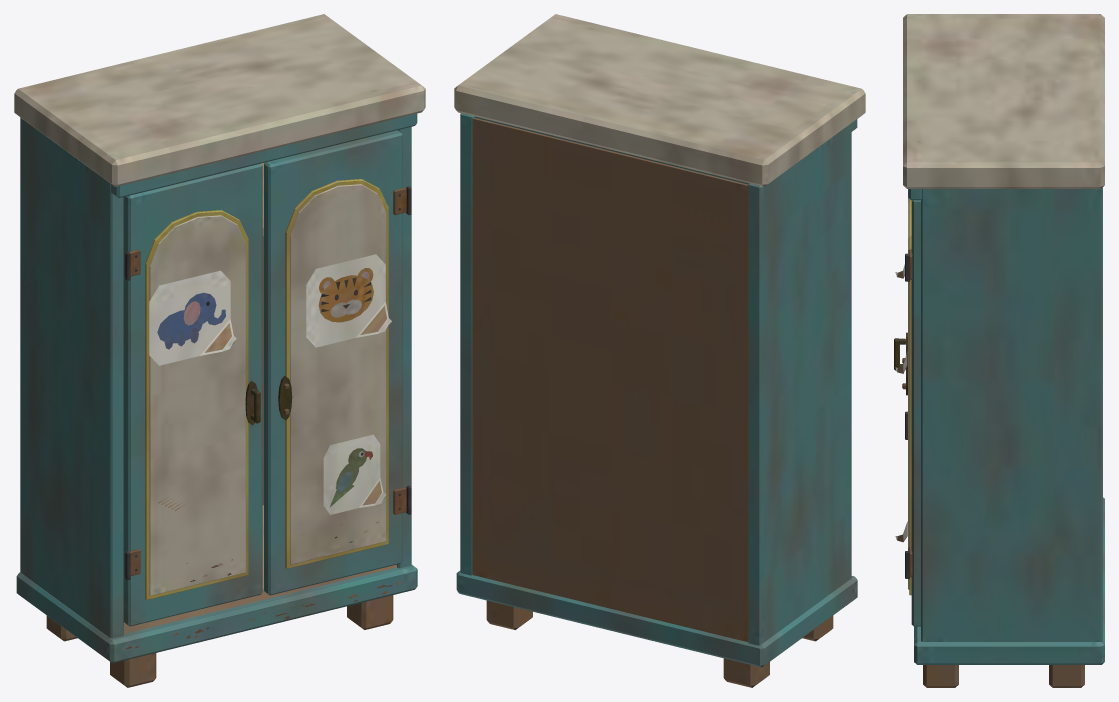
The model's file is B11_kids_wardrobe.glb.
The picture shows the model from 3 angles, left to right: view 1: azimuth 30°, elevation 25°; view 2: azimuth 150°, elevation 25°; view 3: azimuth 270°, elevation 25°; orthographic projection.
Parts seen in each view (by area): view 1: Tapered slipper foot; view 2: Tapered slipper foot; view 3: Tapered slipper foot.
Part boxes in pixels (x1=…): Tapered slipper foot: x1=14, y1=14, x2=425, y2=687; Tapered slipper foot: x1=454, y1=14, x2=865, y2=687; Tapered slipper foot: x1=894, y1=14, x2=1104, y2=687.
Bounding box in the file's own units: 0.85 × 1.4 × 0.499.
16 materials, 16 textured.
